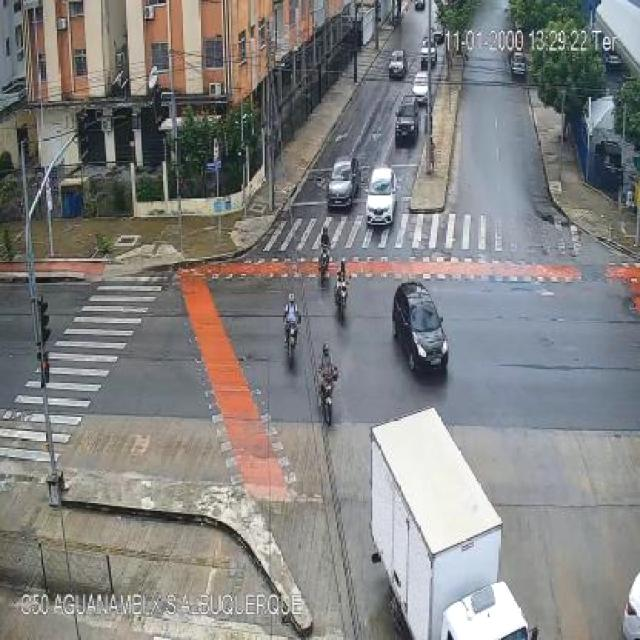Car: (392, 280, 450, 374), (364, 167, 399, 226), (325, 156, 360, 212), (594, 138, 624, 186), (395, 94, 421, 145), (410, 71, 430, 102), (418, 36, 438, 65), (388, 50, 408, 78), (510, 51, 527, 78), (430, 20, 447, 43)
Cycle: (314, 366, 340, 426), (280, 314, 302, 368), (334, 275, 354, 326), (318, 242, 332, 286)
Truck: (369, 403, 542, 640)
